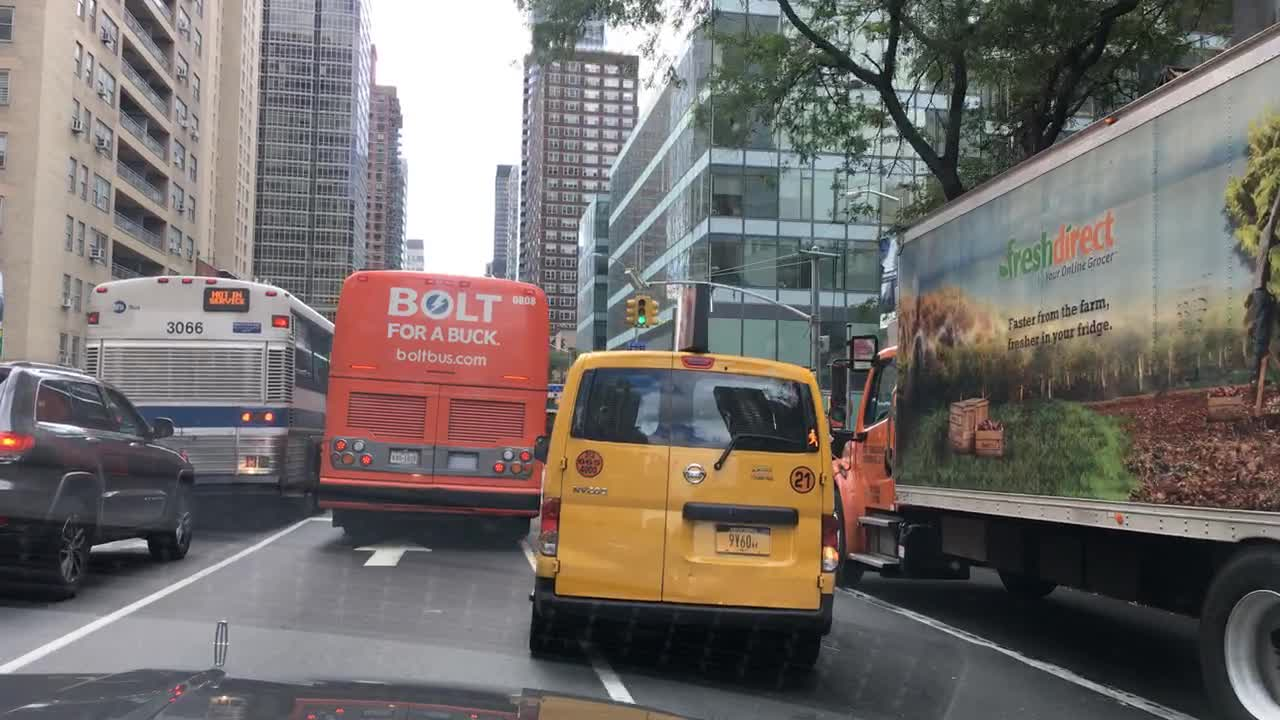bus: (322, 268, 546, 538), (88, 274, 326, 511)
car: (526, 280, 841, 671), (0, 358, 201, 597)
traffic light: (635, 295, 649, 327), (649, 296, 660, 325), (626, 296, 634, 325)
traffic sign: (548, 378, 572, 394)
truck: (828, 21, 1279, 718)
